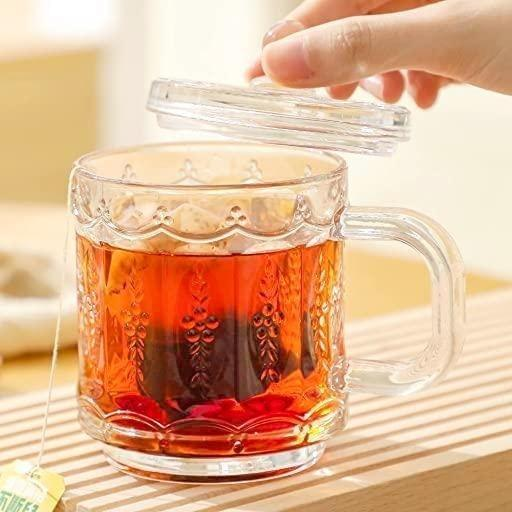glass-mug: (71, 134, 470, 488)
